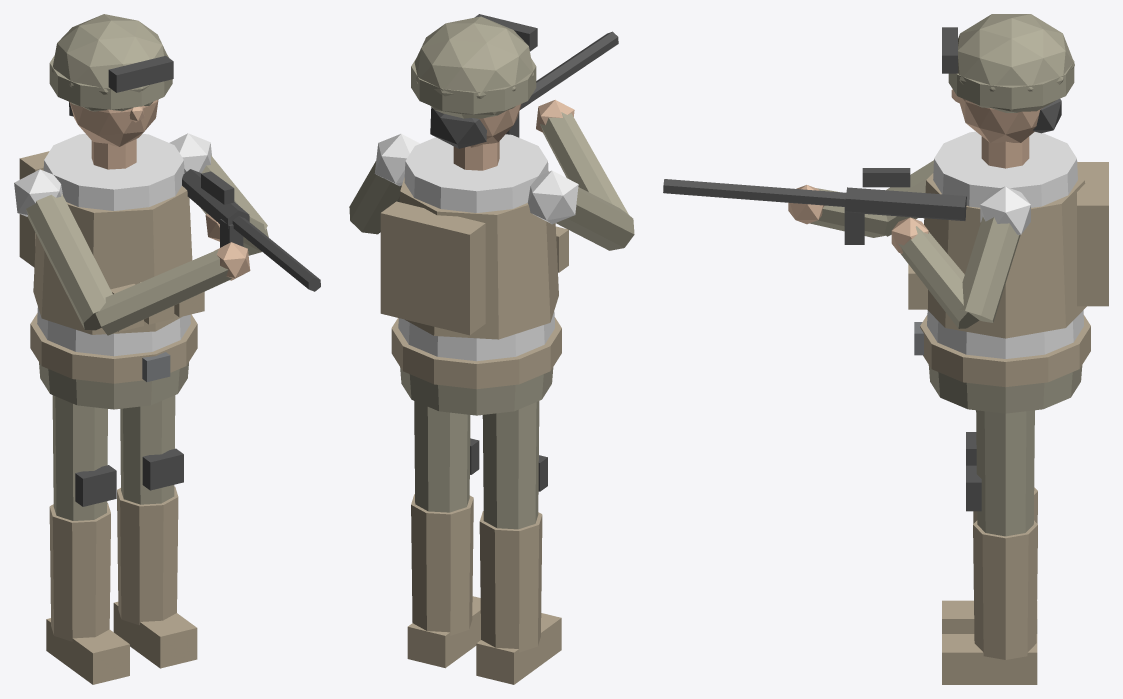
The model's file is civ_unit_marine.glb.
The picture shows the model from 3 angles, left to right: view 1: azimuth 30°, elevation 25°; view 2: azimuth 150°, elevation 25°; view 3: azimuth 270°, elevation 25°; orthographic projection. The views are drawn at different scales.
Visible parts, largest first — view 1: civ_unit_marine; view 2: civ_unit_marine; view 3: civ_unit_marine.
Part boxes in pixels (x1=…): civ_unit_marine: x1=14, y1=14, x2=320, y2=684; civ_unit_marine: x1=349, y1=14, x2=634, y2=684; civ_unit_marine: x1=663, y1=14, x2=1108, y2=684.
Size of the model in its own units: 0.6936 by 1.78 by 1.12.
